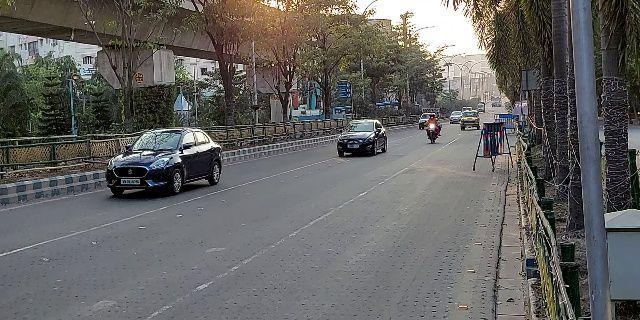Car: (101, 123, 229, 201), (333, 116, 390, 159), (455, 106, 482, 133)
Motorbike: (421, 111, 443, 147)
